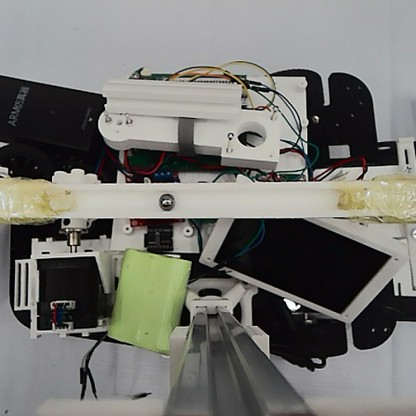ironball: (155, 190, 176, 211)
